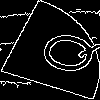Q: (25, 24, 100, 80)
